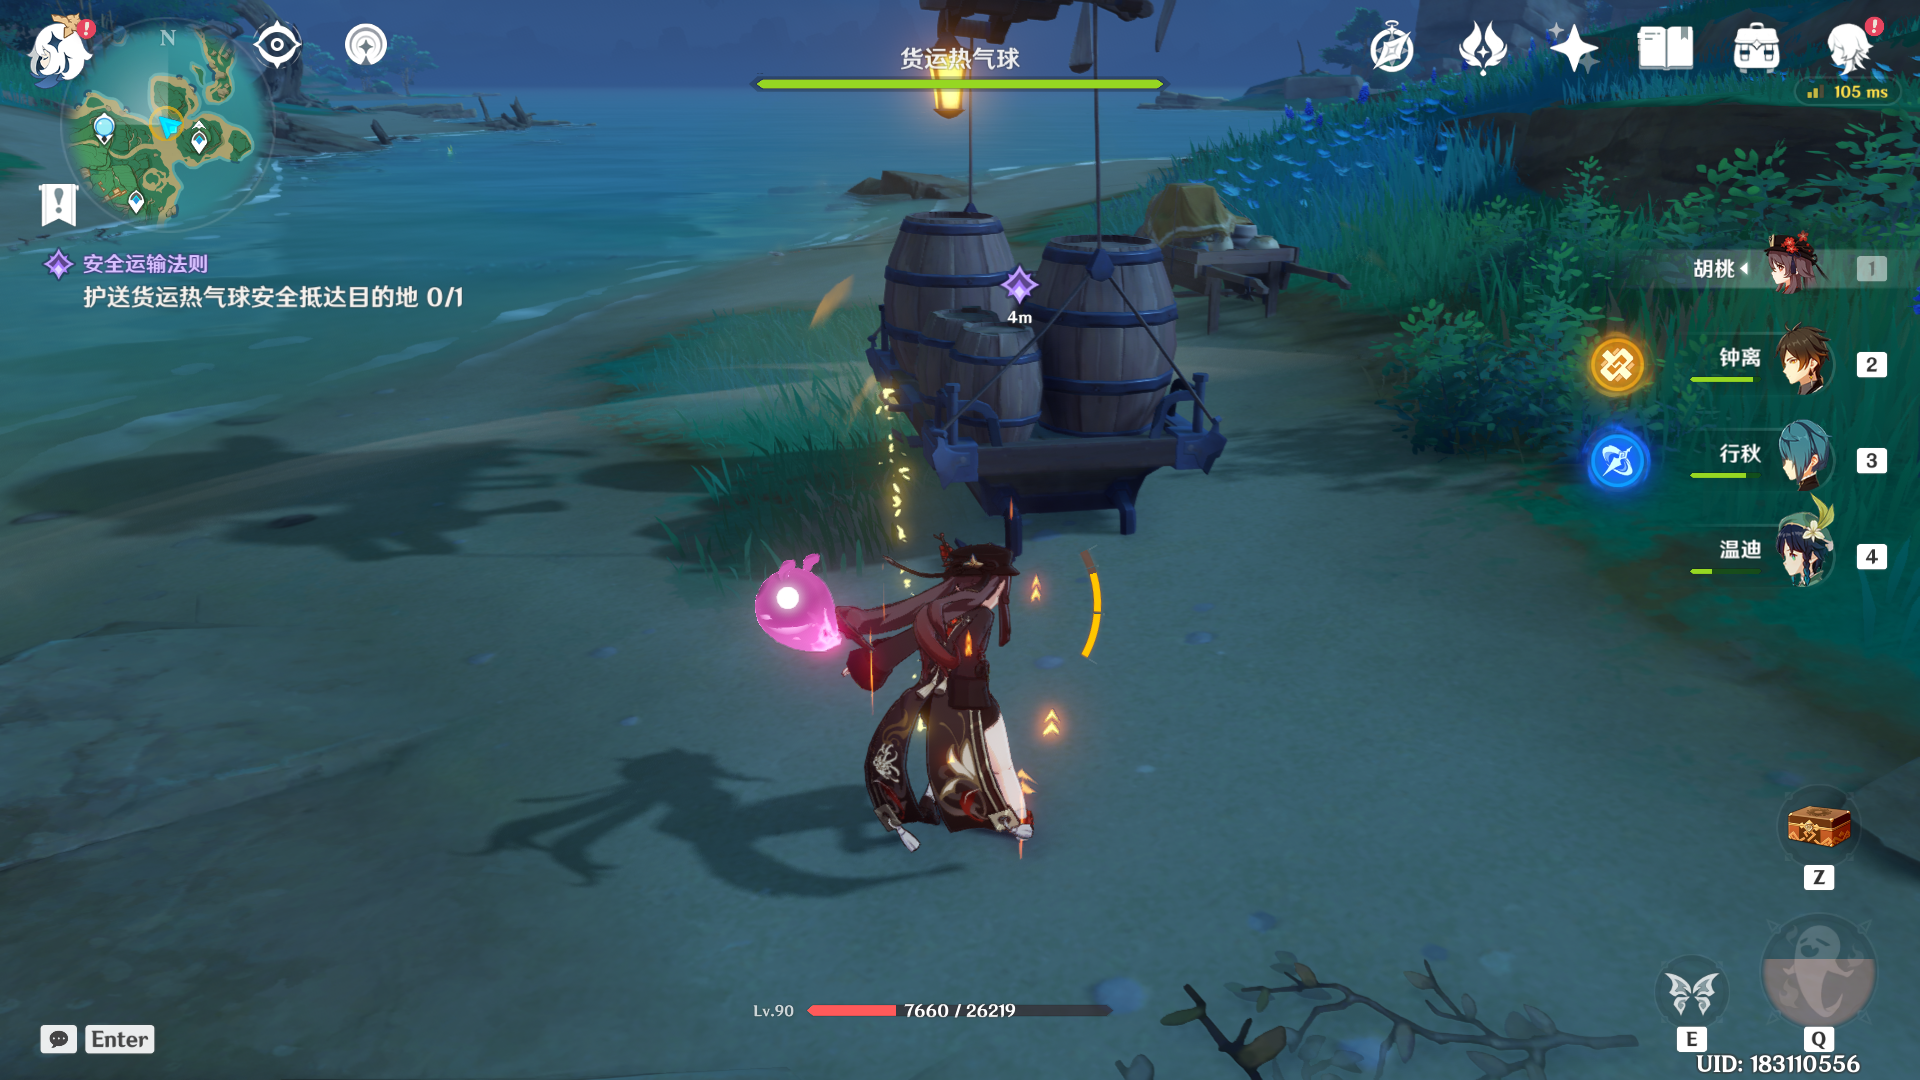character: (798, 520, 1118, 880)
